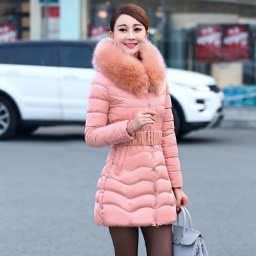face: (106, 5, 152, 59)
